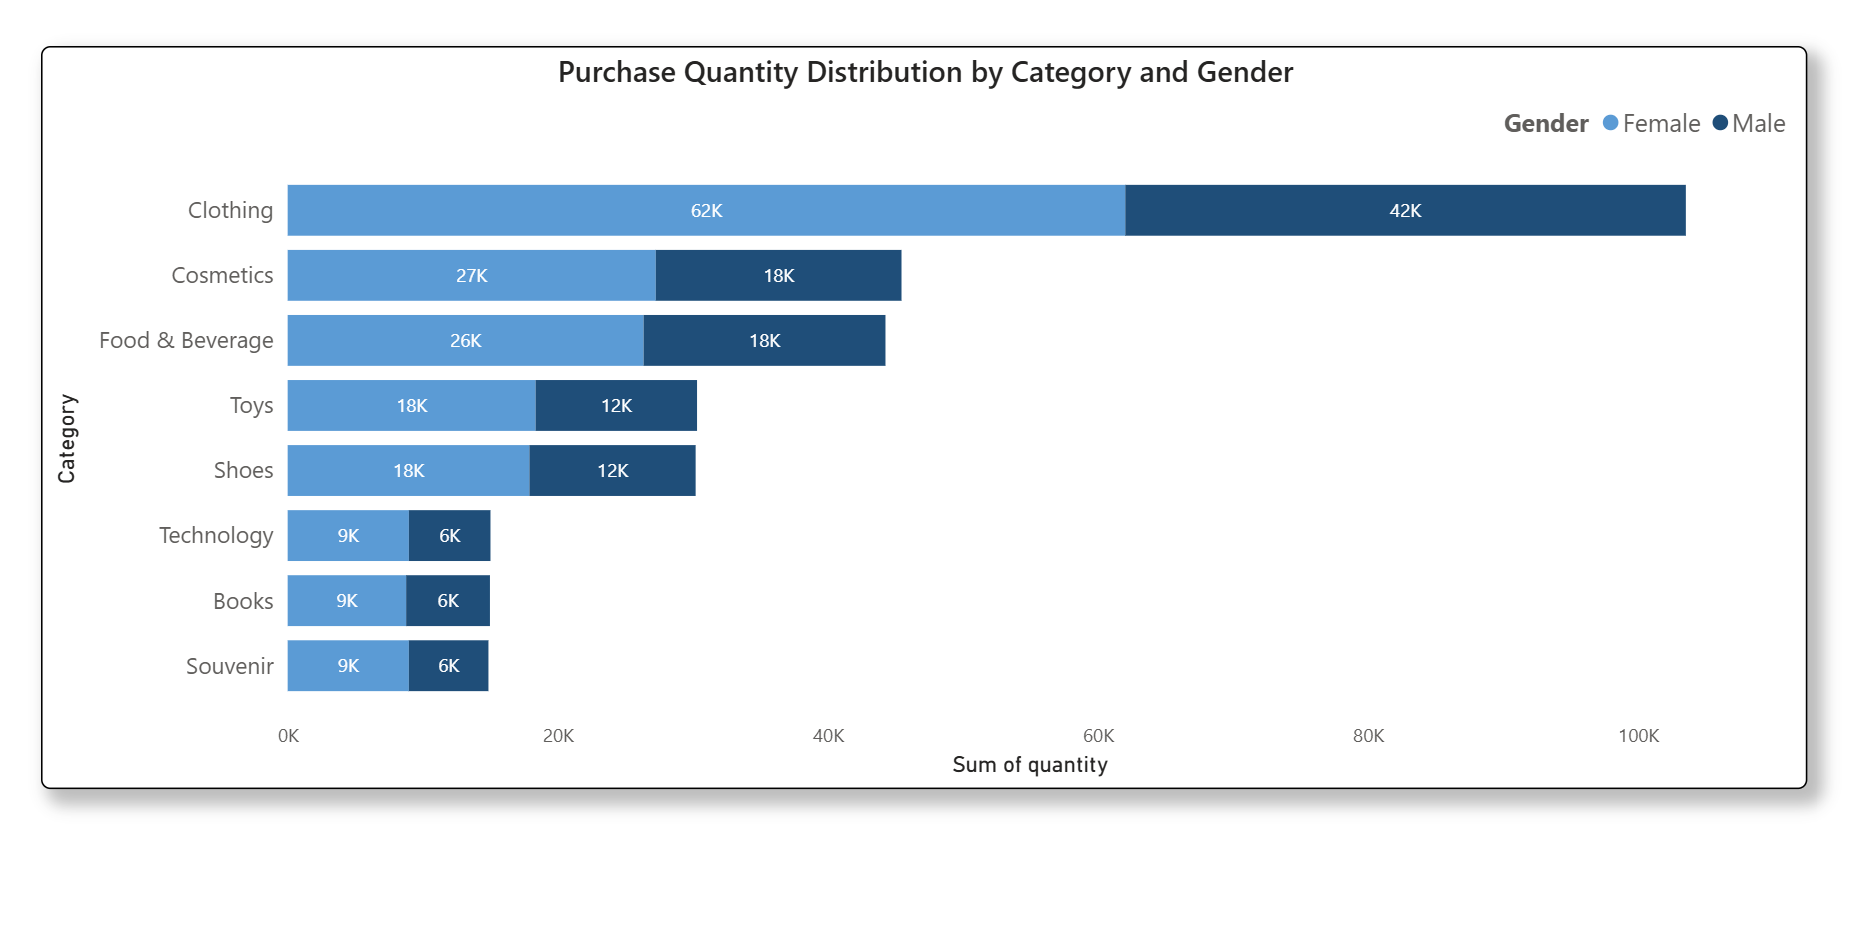

The dashboard page shown, as its layout file describes it:
{"tool":"powerbi","page":{"name":"Purchase Quantity Distribution by Category and Gender","canvas":[1280,720],"ordinal":7},"visuals":[{"type":"barChart","title":"Purchase Quantity Distribution by Category and Gender","fields":{"Category":["customer_data.category"],"Y":["Sum(customer_data.quantity)"],"Series":["customer_data.gender"]},"box":[82.3,68.6,1134.8,477.5],"z":0}]}

Visuals, with their boxes on the page's 1280x720 design canvas (x1, y1, x2, y2). These are canvas units, not pixel positions in the 1853x929 screenshot, which may show the page scaled, cropped or inside an application window:
"Purchase Quantity Distribution by Category and Gender" barChart: region(82, 69, 1217, 546)
